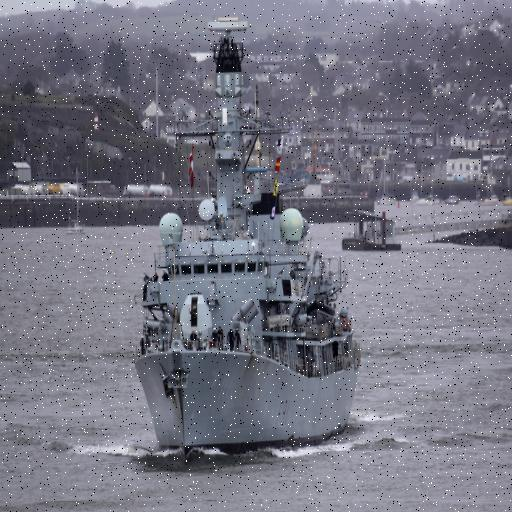Fragata: (131, 10, 363, 464)
